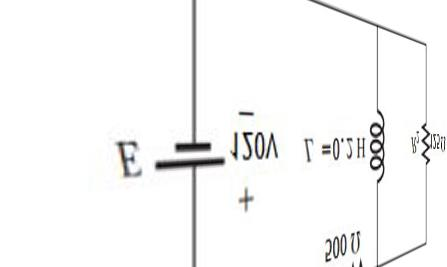inductor: (362, 100, 391, 189)
